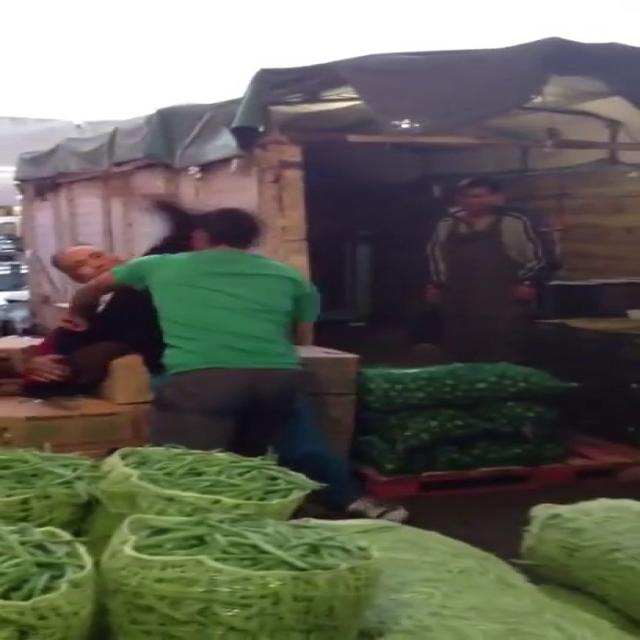non_violence: (422, 180, 557, 352)
violence: (45, 203, 328, 442)
